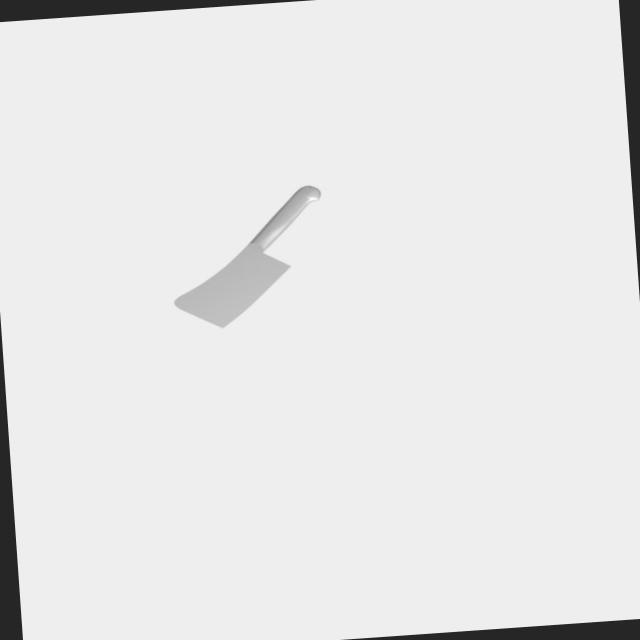knife: (242, 186, 324, 253)
